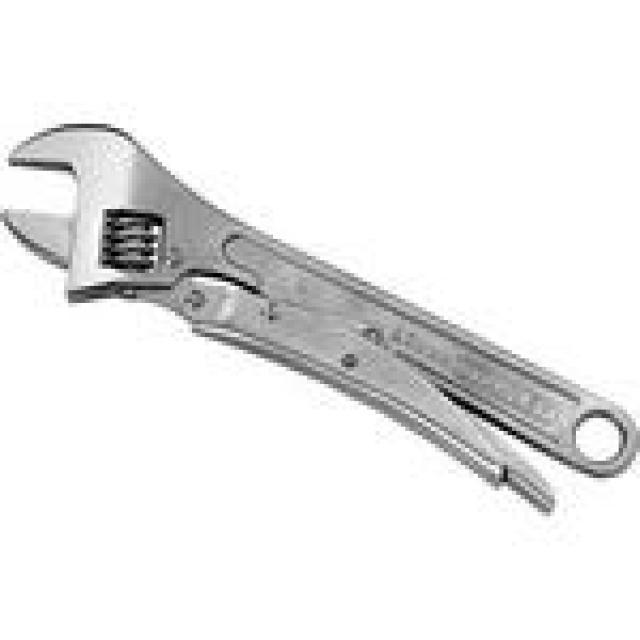wrench: (0, 111, 640, 518)
